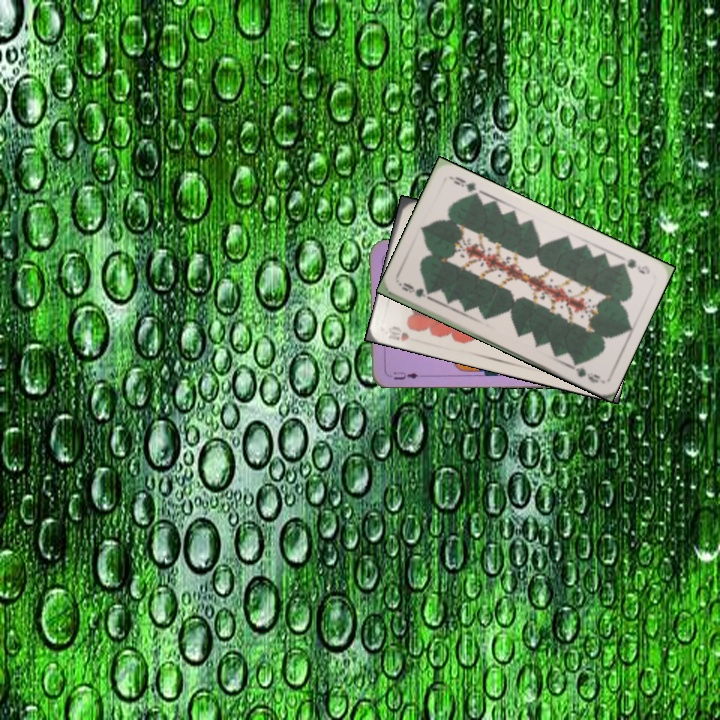EU: (383, 368, 421, 382)
G9: (396, 278, 434, 303), (614, 254, 653, 277)
H10: (384, 322, 411, 344)
